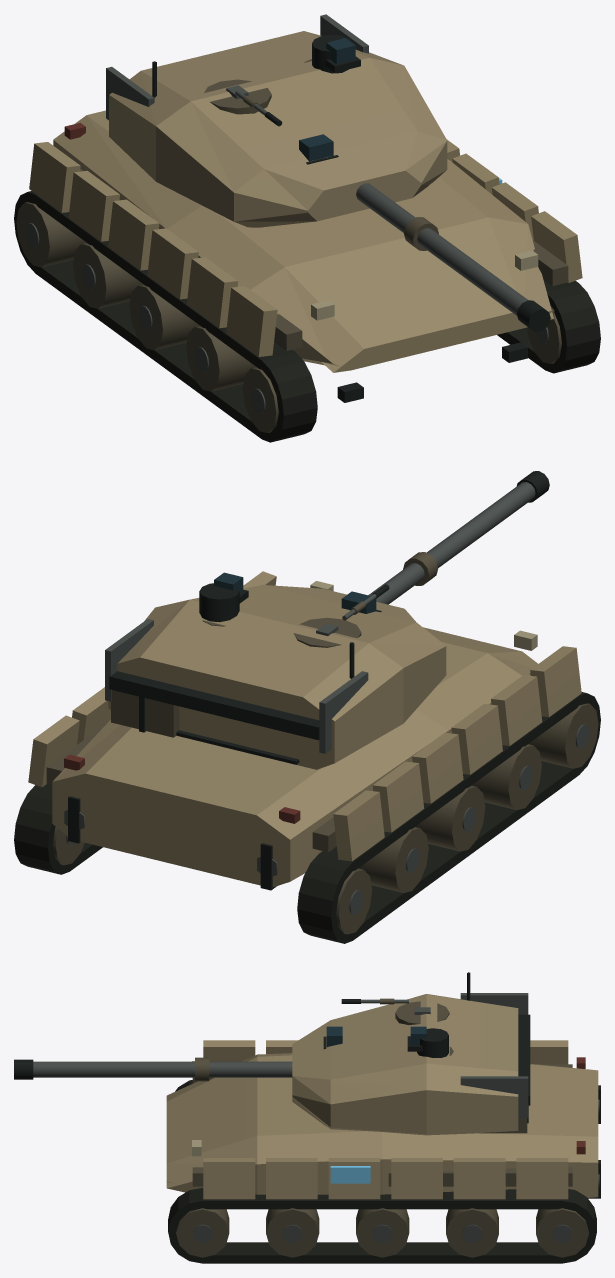
File: tank-lod.glb
3 renders of one model, top to bottom at view 1: azimuth 30°, elevation 25°; view 2: azimuth 150°, elevation 25°; view 3: azimuth 270°, elevation 25°, orthographic. The views are drawn at different scales.
Visible parts, largest first — view 1: equipment (×3); view 2: equipment (×3); view 3: equipment (×3), marking.
Part boxes in pixels (left/top/right/bottom): equipment (×3): left=14, top=14, right=600, bottom=442; equipment (×3): left=14, top=471, right=600, bottom=943; equipment (×3): left=14, top=972, right=600, bottom=1263; marking: left=330, top=1166, right=370, bottom=1183.
Bounding box in the file's own units: 3.74 × 2.67 × 7.34.
